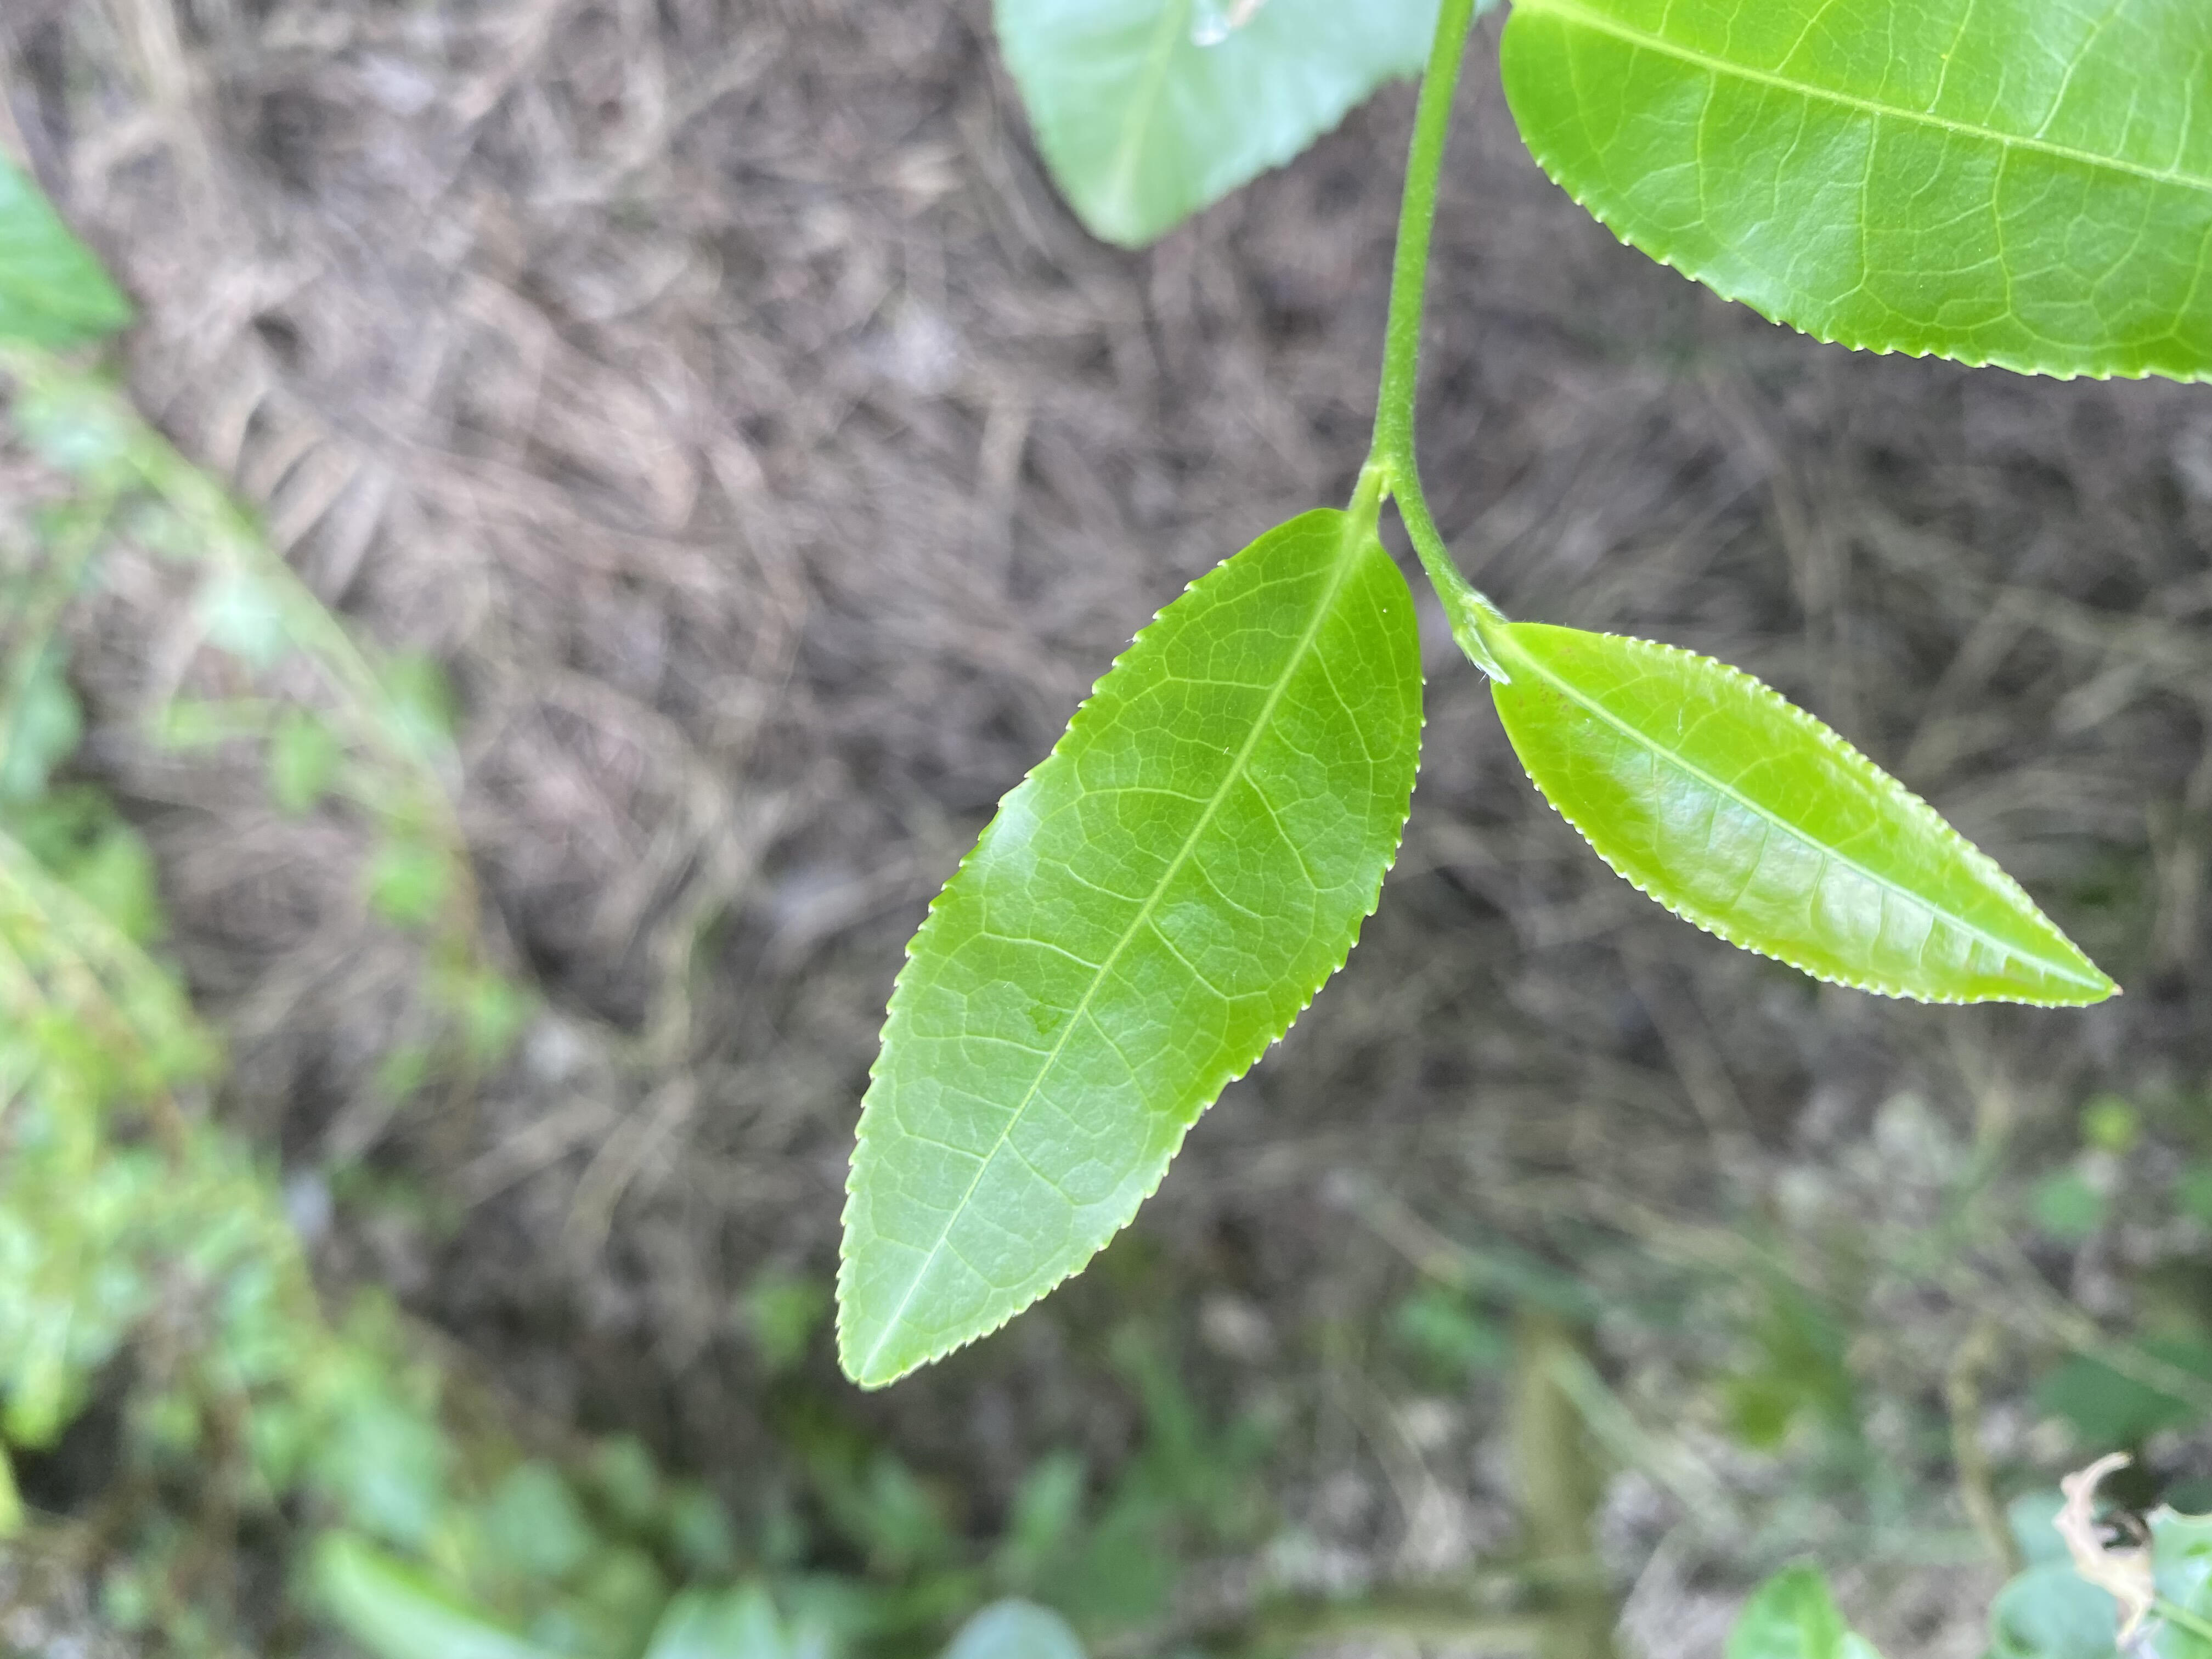healthy: (827, 505, 1433, 1392), (1496, 2, 2209, 387), (1482, 619, 2123, 1014)
